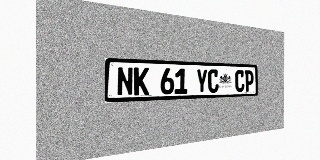1: (175, 68, 187, 94)
6: (161, 68, 174, 94)
C: (208, 69, 219, 93), (235, 70, 244, 92)
K: (134, 67, 149, 95)
N: (117, 67, 133, 96)
P: (245, 70, 254, 92)
Y: (196, 69, 207, 93)
